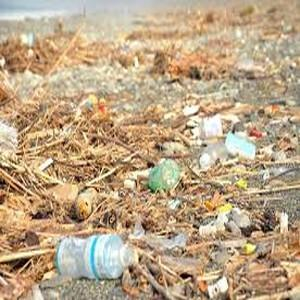Plastic: (53, 232, 134, 283)
